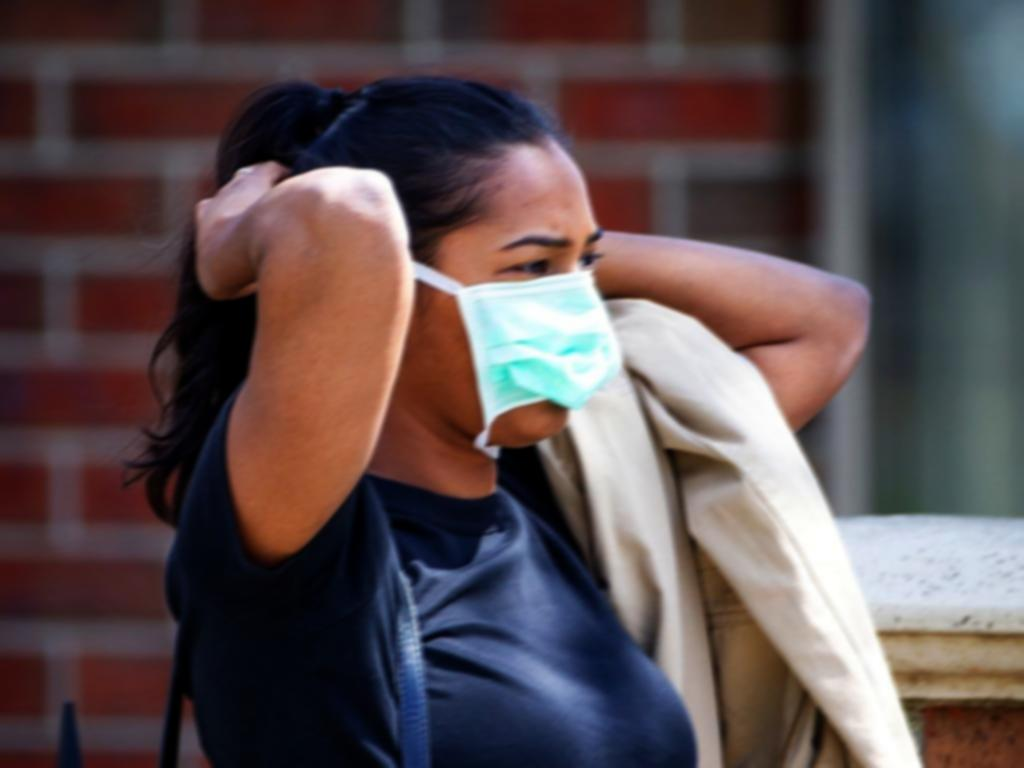mask_weared_incorrect: (293, 75, 628, 465)
